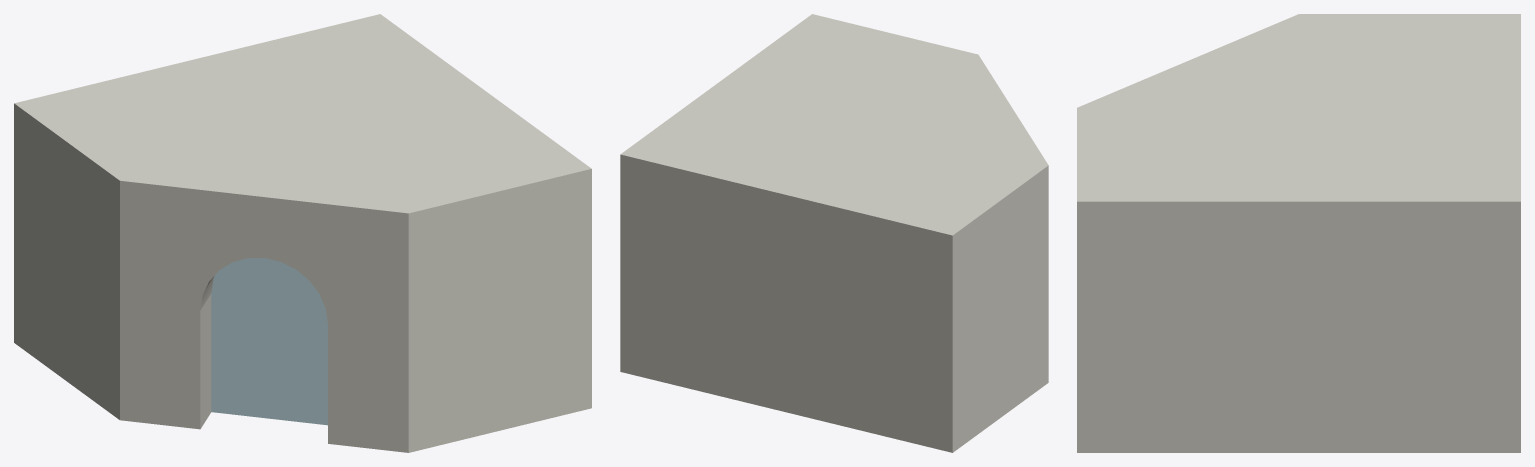
Rendered from building_030.glb.
3 views of the same model, side by side, from view 1: azimuth 30°, elevation 25°; view 2: azimuth 150°, elevation 25°; view 3: azimuth 270°, elevation 25° (orthographic). The views are drawn at different scales.
Parts seen in each view (by area): view 1: building_030; view 2: building_030; view 3: building_030.
Boxes of the visible parts, x1=… form: building_030: x1=14, y1=14, x2=591, y2=452; building_030: x1=620, y1=14, x2=1048, y2=452; building_030: x1=1077, y1=14, x2=1520, y2=452.
Size of the model in its own units: 1 by 0.625 by 1.
